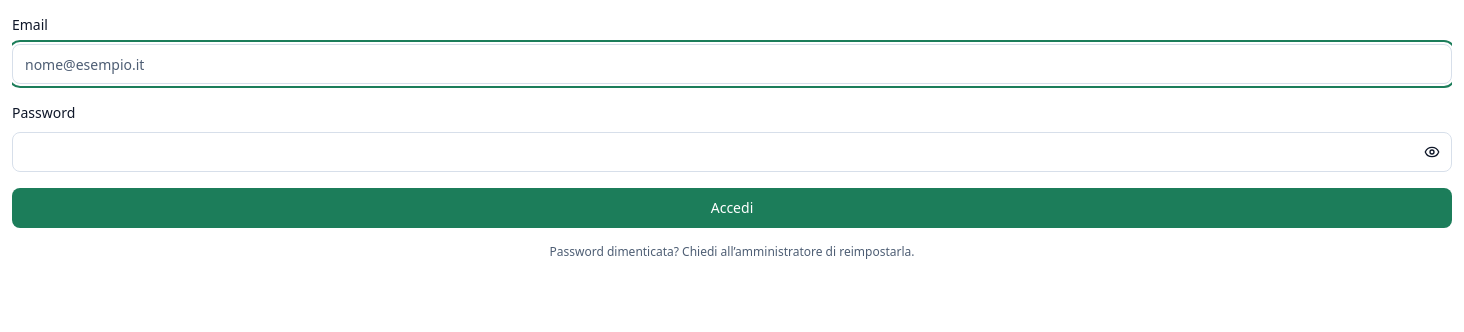
Test case: LoginForm › mostra gli errori di validazione senza chiamare Supabase
Click the button "Accedi" at (732, 208), box [12, 188, 1452, 228]
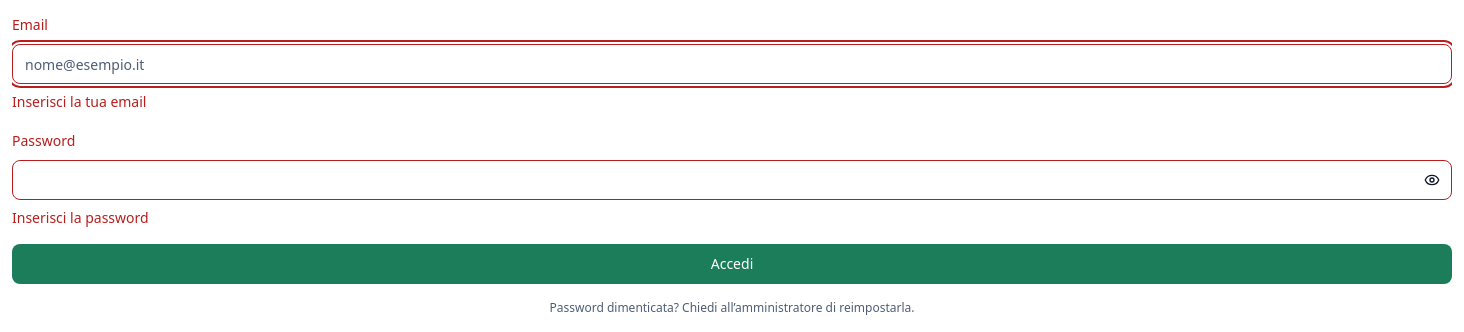
Now the text "Inserisci la tua email" is shown, box [12, 92, 146, 111]
Now the text "Inserisci la password" is shown, box [12, 208, 149, 227]
